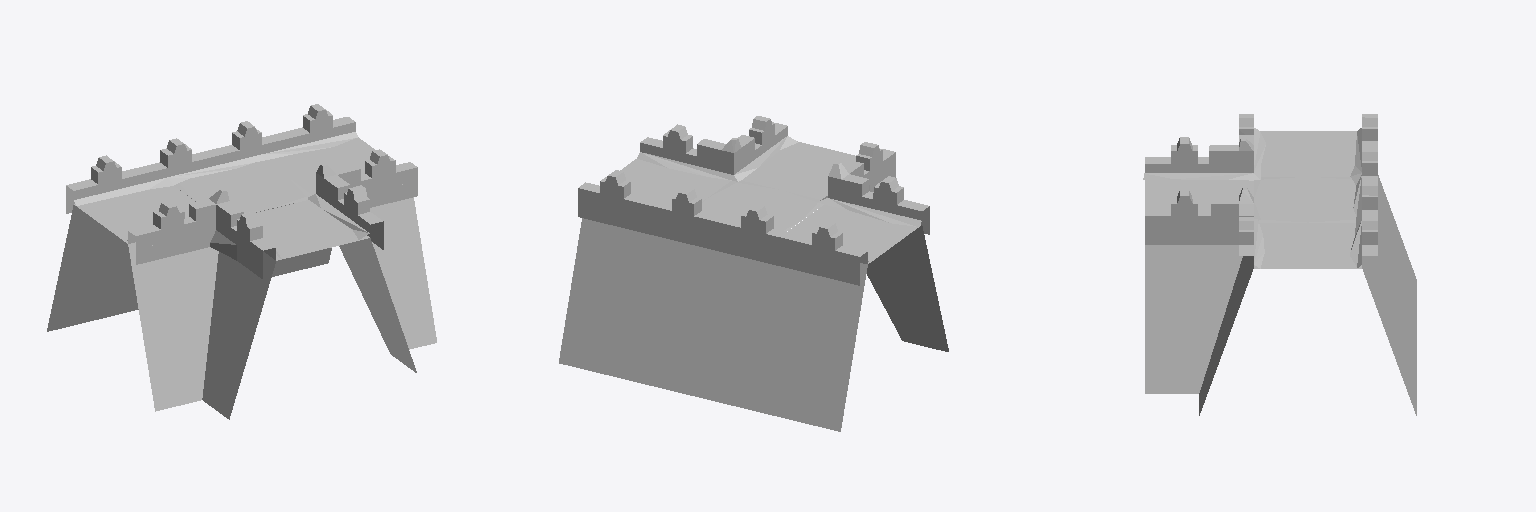
The model's file is templeTUp_prefab.obj.
3 views of the same model, side by side, from view 1: azimuth 30°, elevation 25°; view 2: azimuth 150°, elevation 25°; view 3: azimuth 270°, elevation 25° (orthographic).
Parts seen in each view (by area): view 1: Object85-Pivot; view 2: Object85-Pivot; view 3: Object85-Pivot.
Boxes of the visible parts, <box> form: Object85-Pivot: <box>47,104,436,419</box>; Object85-Pivot: <box>559,116,948,431</box>; Object85-Pivot: <box>1143,114,1416,415</box>.
Bounding box in the file's own units: 60 × 37.27 × 50.3.